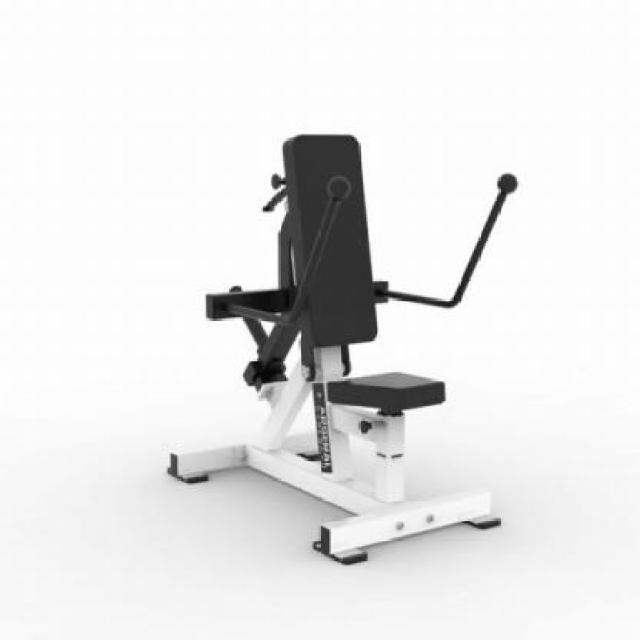seated dip machine: (166, 135, 523, 568)
